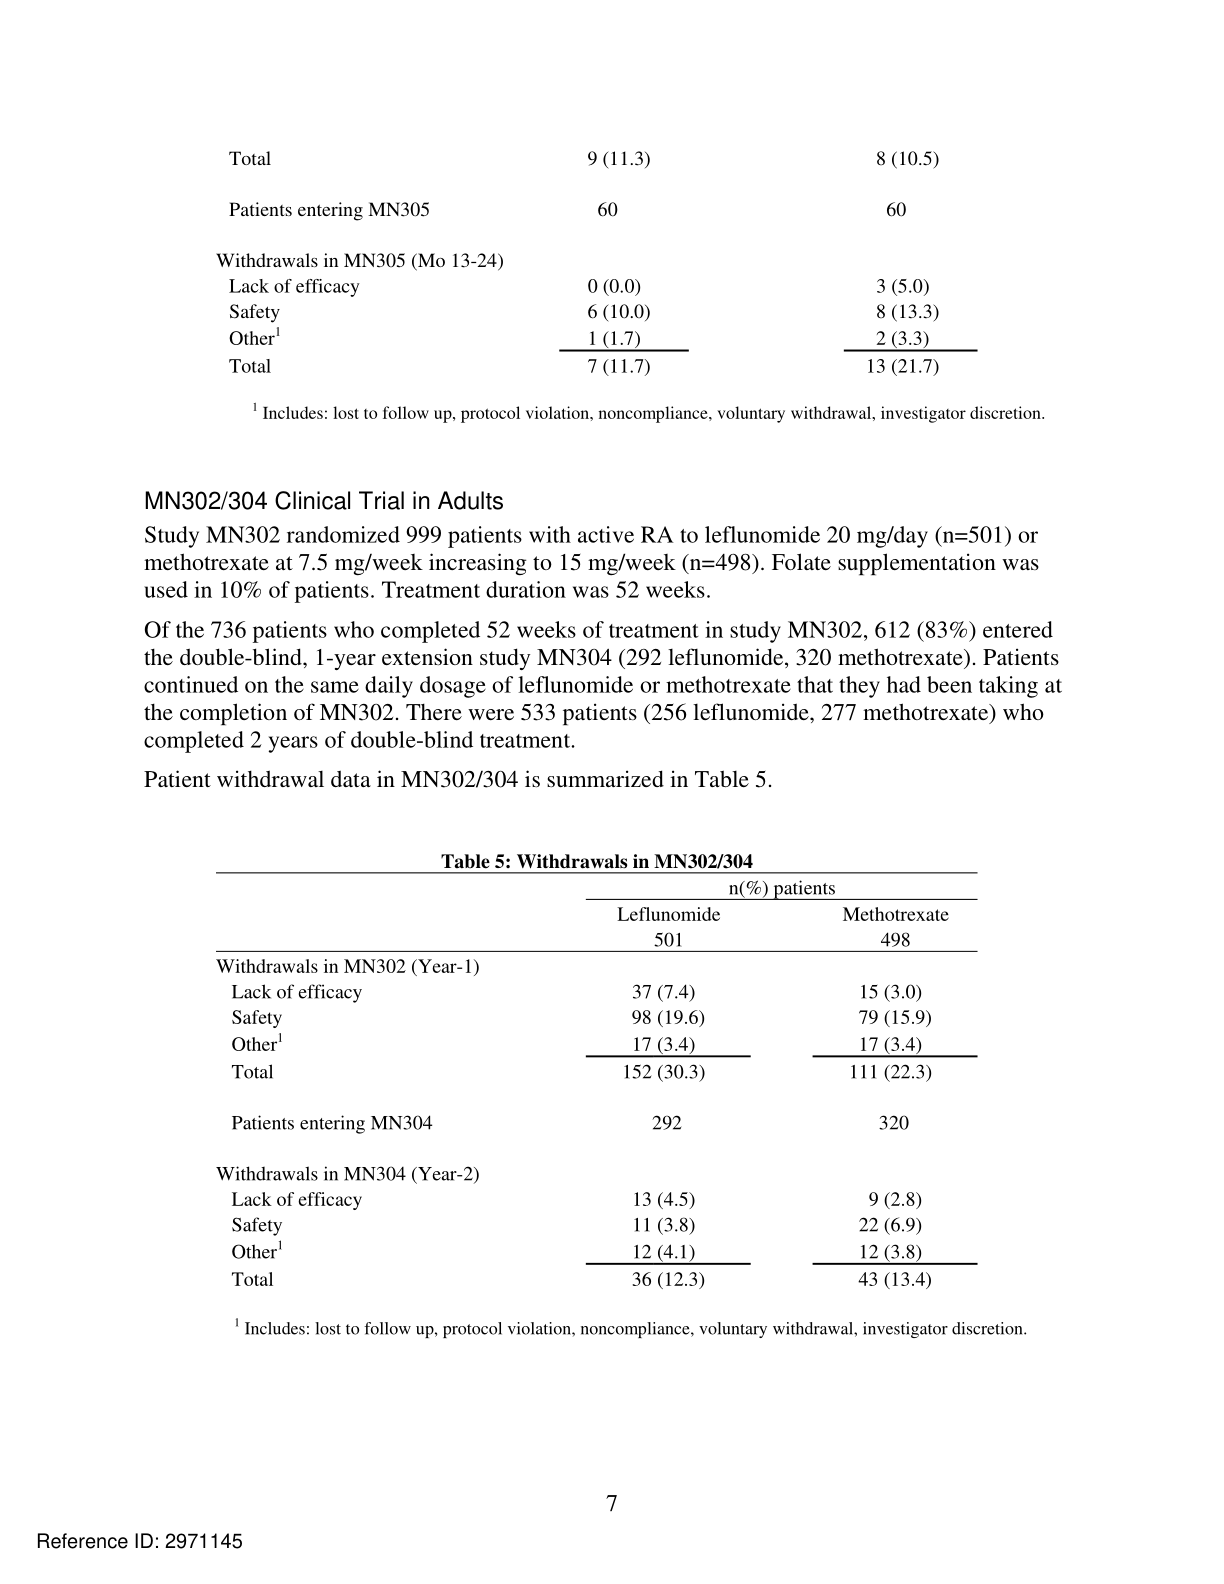nolines: (216, 149, 975, 377)
partial_lined_merged_cells: (213, 870, 980, 1292)
